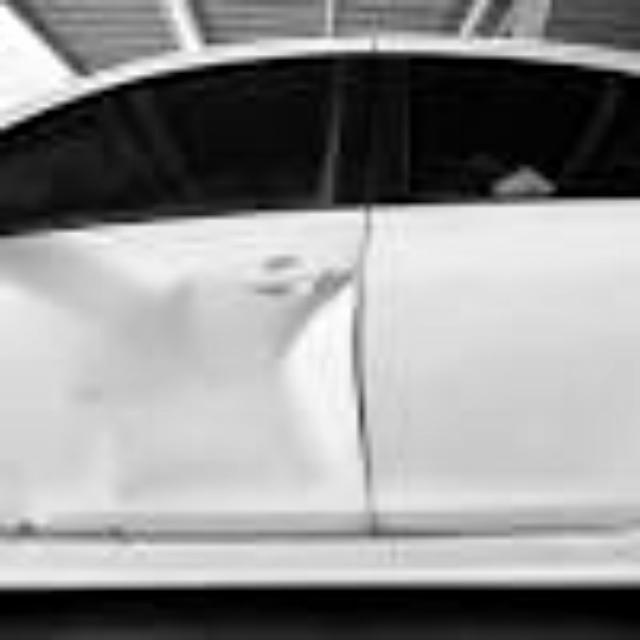doorouter-dent: (0, 225, 358, 538)
